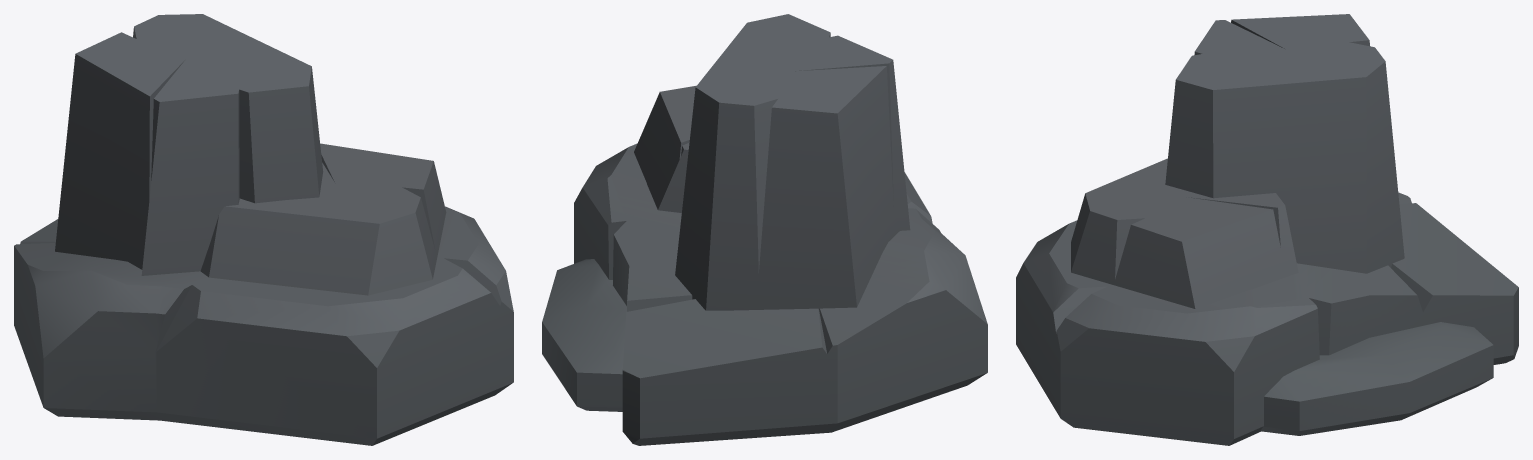
The model's file is Rock_10.fbx.
3 views of the same model, side by side, from view 1: azimuth 30°, elevation 25°; view 2: azimuth 150°, elevation 25°; view 3: azimuth 270°, elevation 25° (orthographic). The views are drawn at different scales.
Visible parts, largest first — view 1: Rock_10; view 2: Rock_10; view 3: Rock_10.
Part boxes in pixels (box(x1,y1,x2,y2)): Rock_10: box(14, 14, 513, 445); Rock_10: box(542, 14, 987, 445); Rock_10: box(1016, 14, 1518, 445).
Bounding box in the file's own units: 267 × 187 × 290.
